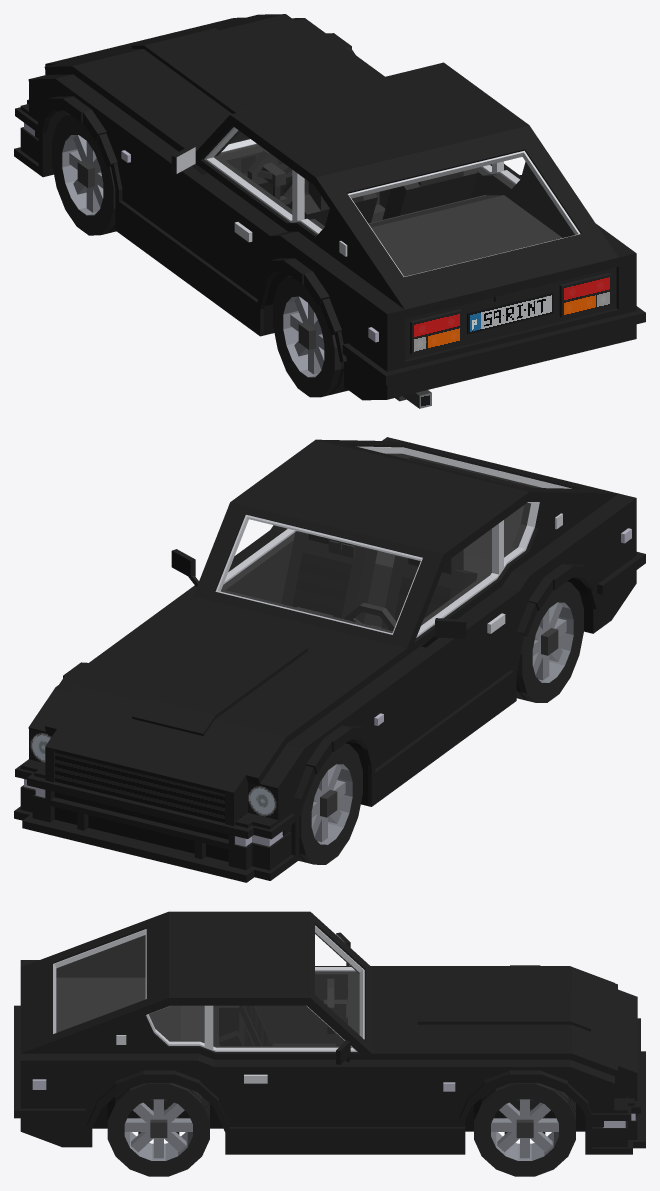
3 renders of one model, top to bottom at view 1: azimuth 30°, elevation 25°; view 2: azimuth 150°, elevation 25°; view 3: azimuth 270°, elevation 25°, orthographic. The views are drawn at different scales.
Visible parts, largest first — view 1: e3d2aef3-9d90-2131-404b-be12b09ecf60_296, ba9ef7dd-9c59-b2e2-9b2a-2dc7ef4e1df4_248, dba2d9b3-d184-82e5-2c1f-ba91e8c38ba3_250, 5010d44a-96fb-20e1-2835-7ef12220ace8_237, dac179d2-7a73-bd01-8728-33cc7060b763_247, 687575d3-682f-96c4-3fc6-68dbb2f25e93_194, 857318c0-4bbd-3efc-288c-0d620b1f5ea1_267, 97d8c438-2185-4d47-a0fd-589b0c34bef3_180, 2100d767-e134-7e82-7a64-360cebdb4871_165, 1ee17742-ca00-6f73-dcda-000bd5228ac8_197, 5d6c1342-5c06-de8f-50b4-c52f8bfbc9a7_270, 81d7edb4-b18f-5852-35d3-55ca1a1b9c33_163 (+28 smaller); view 2: ba9ef7dd-9c59-b2e2-9b2a-2dc7ef4e1df4_248, e3d2aef3-9d90-2131-404b-be12b09ecf60_296, cb0662f3-7695-3380-a221-31ac383d1f5c_239, 5010d44a-96fb-20e1-2835-7ef12220ace8_237, dac179d2-7a73-bd01-8728-33cc7060b763_247, 687575d3-682f-96c4-3fc6-68dbb2f25e93_194, f51099a7-79d6-7b54-01a3-4ab5c76e8f22_203, 1ee17742-ca00-6f73-dcda-000bd5228ac8_197, 64e99cd5-3376-1bd6-913d-eccc3adabf7b_142, 5b1a1e11-ff32-1a6a-b945-e7d6555fb72e_240, 21d9584b-37d1-8c5f-3cf3-6052428f1c95_130, 0b8a7dda-d5f9-5f49-fc0f-724abb90da17_147 (+35 smaller); view 3: ba9ef7dd-9c59-b2e2-9b2a-2dc7ef4e1df4_248, c96522e5-0617-ff15-560a-24af6cbff342_195, e3d2aef3-9d90-2131-404b-be12b09ecf60_296, 1b8dd957-a241-73b2-0f6e-b3bf43deb18b_193, d2d81802-f5e3-daa9-c21c-d8fe882d571f_196, dba2d9b3-d184-82e5-2c1f-ba91e8c38ba3_250, dac179d2-7a73-bd01-8728-33cc7060b763_247, cb0662f3-7695-3380-a221-31ac383d1f5c_239, 97d8c438-2185-4d47-a0fd-589b0c34bef3_180, 5010d44a-96fb-20e1-2835-7ef12220ace8_237, 524b80f8-ab17-9aa3-f46a-6924ead0cc56_191, 857318c0-4bbd-3efc-288c-0d620b1f5ea1_267 (+60 smaller).
Part boxes in pixels (bbox=[...]): e3d2aef3-9d90-2131-404b-be12b09ecf60_296: bbox=[248, 67, 511, 172]; ba9ef7dd-9c59-b2e2-9b2a-2dc7ef4e1df4_248: bbox=[72, 14, 374, 164]; dba2d9b3-d184-82e5-2c1f-ba91e8c38ba3_250: bbox=[290, 195, 562, 314]; 5010d44a-96fb-20e1-2835-7ef12220ace8_237: bbox=[118, 136, 274, 335]; dac179d2-7a73-bd01-8728-33cc7060b763_247: bbox=[144, 28, 307, 113]; 687575d3-682f-96c4-3fc6-68dbb2f25e93_194: bbox=[55, 74, 343, 300]; 857318c0-4bbd-3efc-288c-0d620b1f5ea1_267: bbox=[404, 234, 600, 305]; 97d8c438-2185-4d47-a0fd-589b0c34bef3_180: bbox=[344, 267, 616, 396]; 2100d767-e134-7e82-7a64-360cebdb4871_165: bbox=[385, 305, 636, 399]; 1ee17742-ca00-6f73-dcda-000bd5228ac8_197: bbox=[115, 199, 263, 336]; 5d6c1342-5c06-de8f-50b4-c52f8bfbc9a7_270: bbox=[333, 129, 524, 193]; 81d7edb4-b18f-5852-35d3-55ca1a1b9c33_163: bbox=[342, 306, 645, 385]; ba9ef7dd-9c59-b2e2-9b2a-2dc7ef4e1df4_248: bbox=[72, 596, 410, 742]; e3d2aef3-9d90-2131-404b-be12b09ecf60_296: bbox=[248, 444, 510, 549]; cb0662f3-7695-3380-a221-31ac383d1f5c_239: bbox=[44, 685, 287, 785]; 5010d44a-96fb-20e1-2835-7ef12220ace8_237: bbox=[352, 607, 512, 805]; dac179d2-7a73-bd01-8728-33cc7060b763_247: bbox=[144, 630, 307, 718]; 687575d3-682f-96c4-3fc6-68dbb2f25e93_194: bbox=[287, 537, 593, 758]; f51099a7-79d6-7b54-01a3-4ab5c76e8f22_203: bbox=[281, 531, 377, 623]; 1ee17742-ca00-6f73-dcda-000bd5228ac8_197: bbox=[368, 669, 516, 806]; 64e99cd5-3376-1bd6-913d-eccc3adabf7b_142: bbox=[55, 752, 224, 822]; 5b1a1e11-ff32-1a6a-b945-e7d6555fb72e_240: bbox=[45, 729, 247, 817]; 21d9584b-37d1-8c5f-3cf3-6052428f1c95_130: bbox=[22, 813, 256, 882]; 0b8a7dda-d5f9-5f49-fc0f-724abb90da17_147: bbox=[54, 792, 228, 861]; ba9ef7dd-9c59-b2e2-9b2a-2dc7ef4e1df4_248: bbox=[365, 967, 571, 1059]; c96522e5-0617-ff15-560a-24af6cbff342_195: bbox=[225, 1076, 465, 1126]; e3d2aef3-9d90-2131-404b-be12b09ecf60_296: bbox=[169, 918, 310, 990]; 1b8dd957-a241-73b2-0f6e-b3bf43deb18b_193: bbox=[92, 1059, 570, 1076]; d2d81802-f5e3-daa9-c21c-d8fe882d571f_196: bbox=[225, 1127, 465, 1154]; dba2d9b3-d184-82e5-2c1f-ba91e8c38ba3_250: bbox=[43, 977, 180, 1076]; dac179d2-7a73-bd01-8728-33cc7060b763_247: bbox=[417, 993, 570, 1024]; cb0662f3-7695-3380-a221-31ac383d1f5c_239: bbox=[569, 967, 617, 1076]; 97d8c438-2185-4d47-a0fd-589b0c34bef3_180: bbox=[24, 1067, 92, 1131]; 5010d44a-96fb-20e1-2835-7ef12220ace8_237: bbox=[256, 989, 347, 1046]; 524b80f8-ab17-9aa3-f46a-6924ead0cc56_191: bbox=[20, 1053, 197, 1066]; 857318c0-4bbd-3efc-288c-0d620b1f5ea1_267: bbox=[20, 963, 52, 1045].
Size of the model in its own units: 16.49 by 11.11 by 37.1.
Materials: 6 (6 with a texture image).
